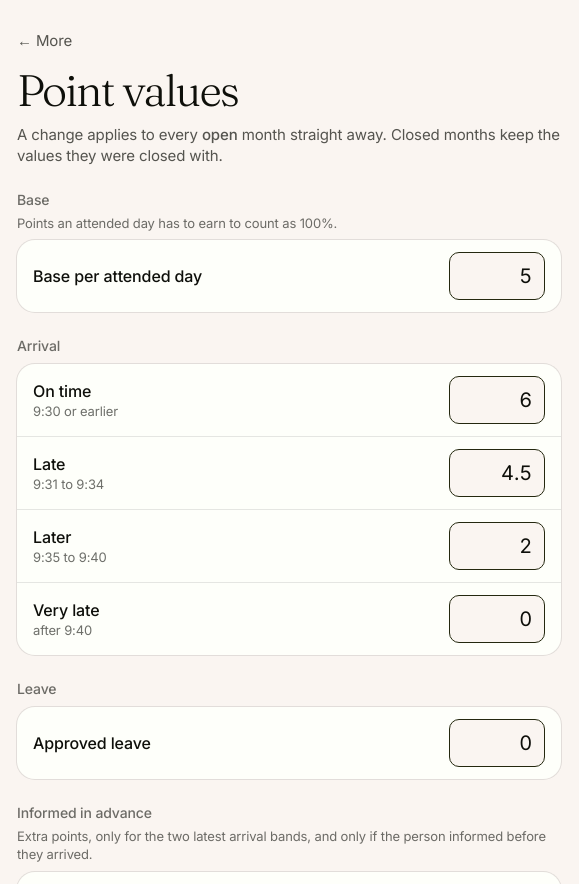
Point values screen › warns, without blocking, when a later arrival earns more
Clear the field labelled "Very late after 9:40": (497, 619) [449, 595, 545, 643]
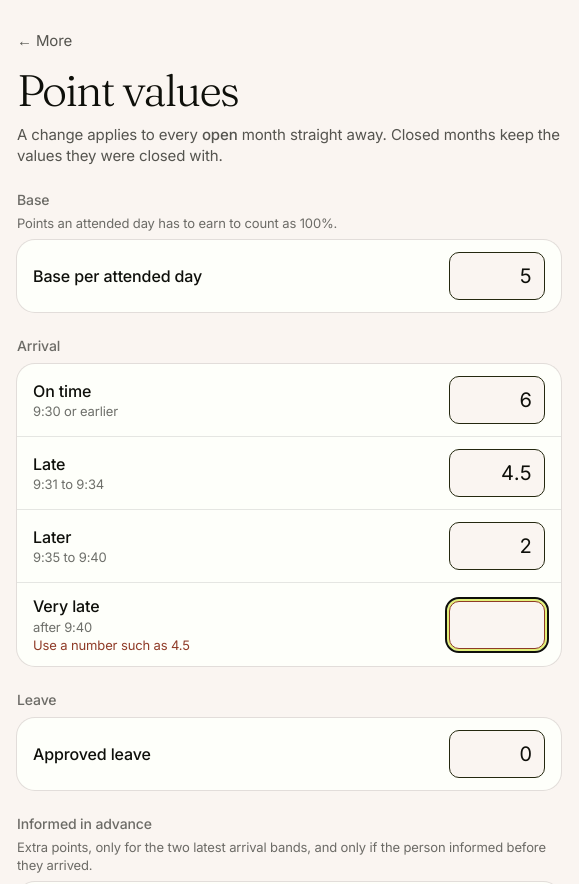
In the field labelled "Very late after 9:40 Use a number such as 4.5": (497, 625) [449, 601, 545, 649], type "3"
(page scrolled)
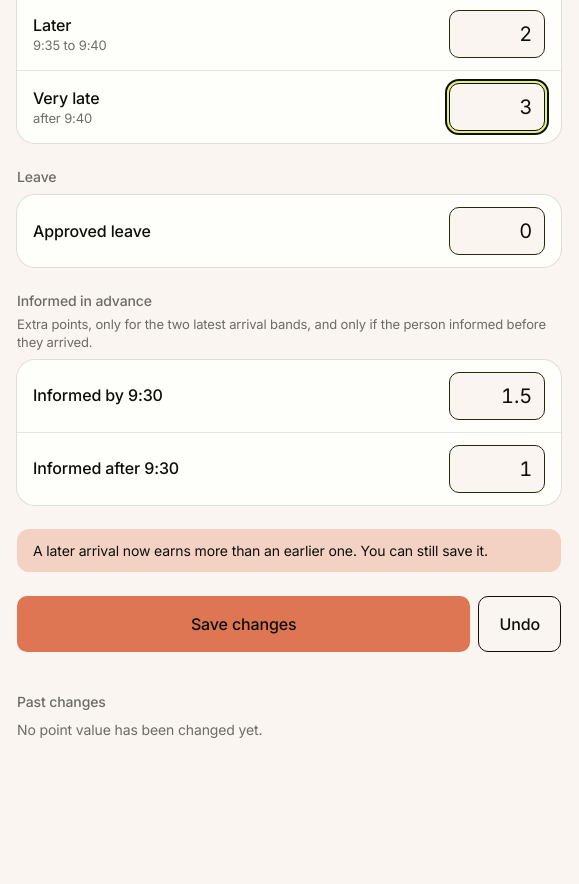
Expected: the list item "later arrival now earns more" is shown, [33, 542, 357, 559]
Expected: the button "Save changes" is enabled, [17, 596, 470, 652]
